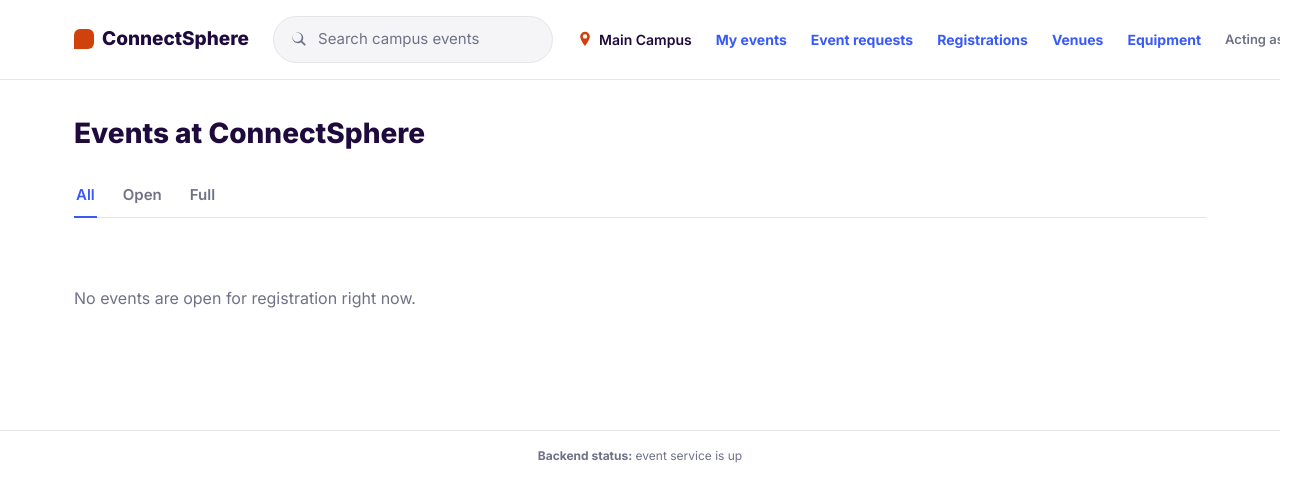
it: coordinator's equipment (US26 AC 1, 2, 4) › shows only the error when the events can't load, not the empty-list message (PR #78 review)
This screenshot has width=1292, height=480.
Click the button "Equipment".
click(1164, 39)  # box [1128,29,1201,50]
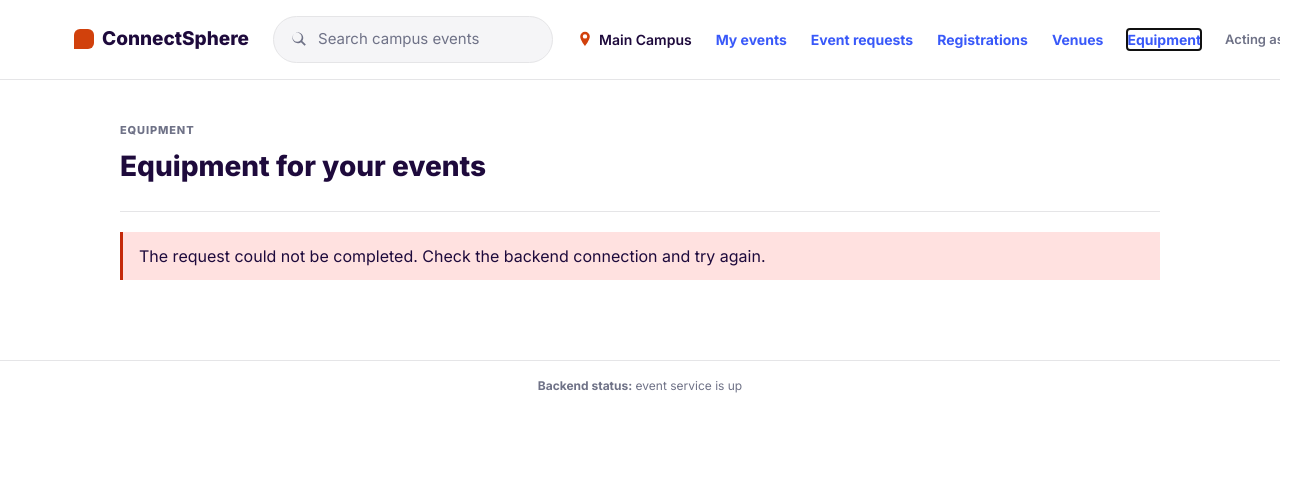
Expected: the message shows "The request could not be completed.", [139,246,766,266]
